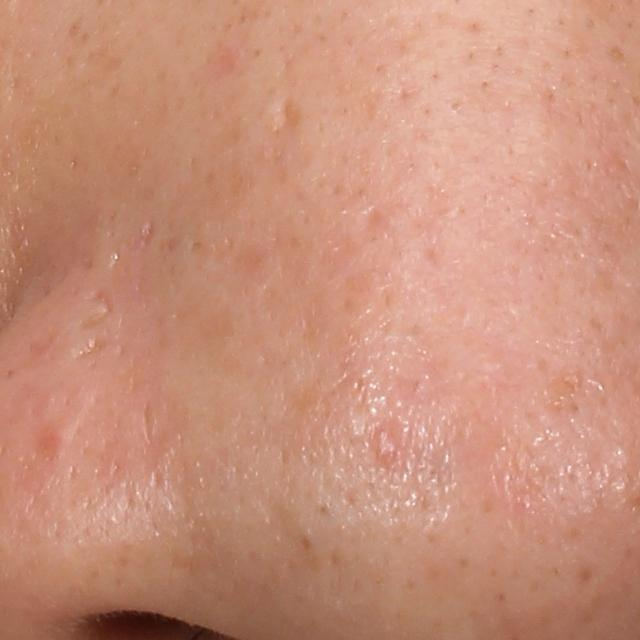atrophic_scar: (350, 203, 394, 251), (77, 287, 115, 332), (271, 95, 299, 134), (78, 334, 110, 359)
